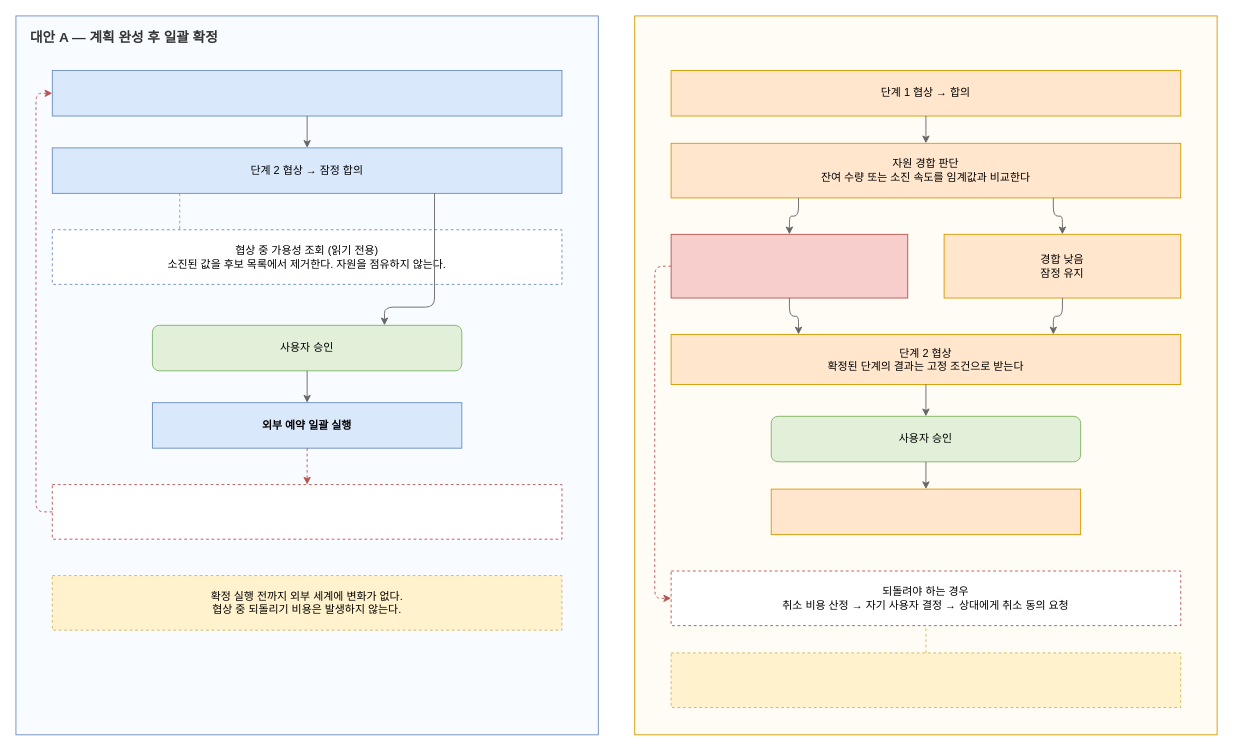
The diagram is 1233 pixels wide and 751 high, and some of its shapes have lost their labels. Here are the shapes that lost their labels. From the top down, the box of each, then its label:
(51, 70, 562, 116): 단계 1 협상 → 잠정 합의
(670, 233, 908, 298): 경합 큼 취소 가능한 임시 확보 우선, 미지원 시 확정 예약
(634, 15, 1217, 735): 대안 B — 경합 단계의 조기 확정
(51, 484, 562, 539): 일부 예약 실패 시 해당 단계만 재협상 (사용자 승인 이후 시점이므로 승인을 다시 받아야 한다)
(770, 488, 1081, 535): 나머지 단계 예약 실행
(670, 652, 1181, 708): 사전 위임 범위 필요 금액 상한 · 취소 가능한 확보만 허용할지 여부 · 조기 확정 허용 단계 유형
